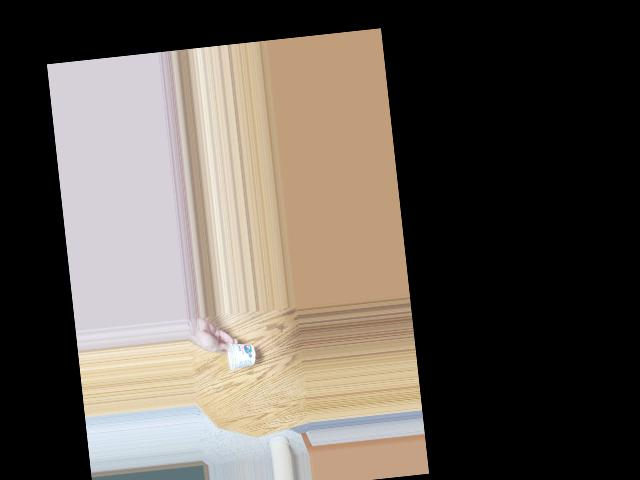cotage: (220, 335, 256, 373)
